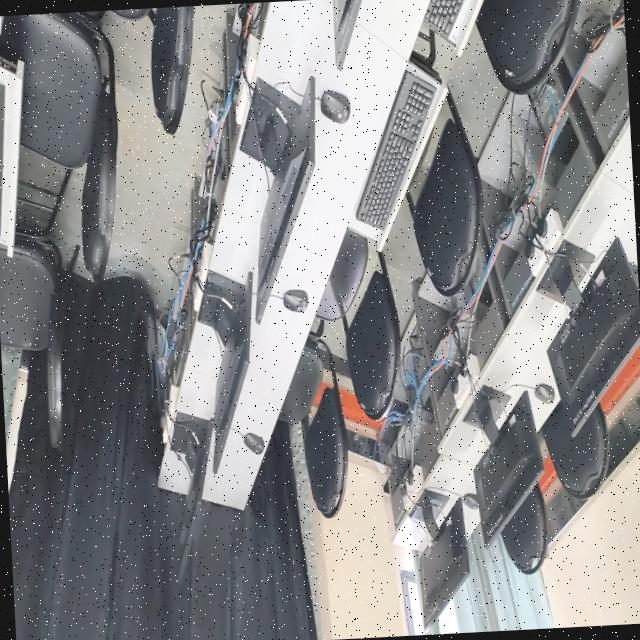Chair: (0, 12, 118, 279), (0, 170, 73, 447), (317, 228, 401, 419), (410, 91, 483, 296), (279, 321, 349, 519), (476, 0, 581, 94), (541, 402, 610, 499), (152, 6, 194, 135), (501, 484, 548, 575)
Keyboard: (357, 72, 433, 228), (424, 0, 481, 48), (0, 84, 5, 235)
Monitor: (547, 238, 640, 436), (257, 77, 316, 322), (474, 391, 545, 548), (213, 272, 253, 473), (418, 493, 470, 630), (179, 420, 213, 584), (333, 0, 363, 70)
Mouse: (321, 92, 351, 124), (283, 290, 308, 313), (244, 433, 264, 455), (535, 384, 555, 404), (463, 494, 478, 510)
